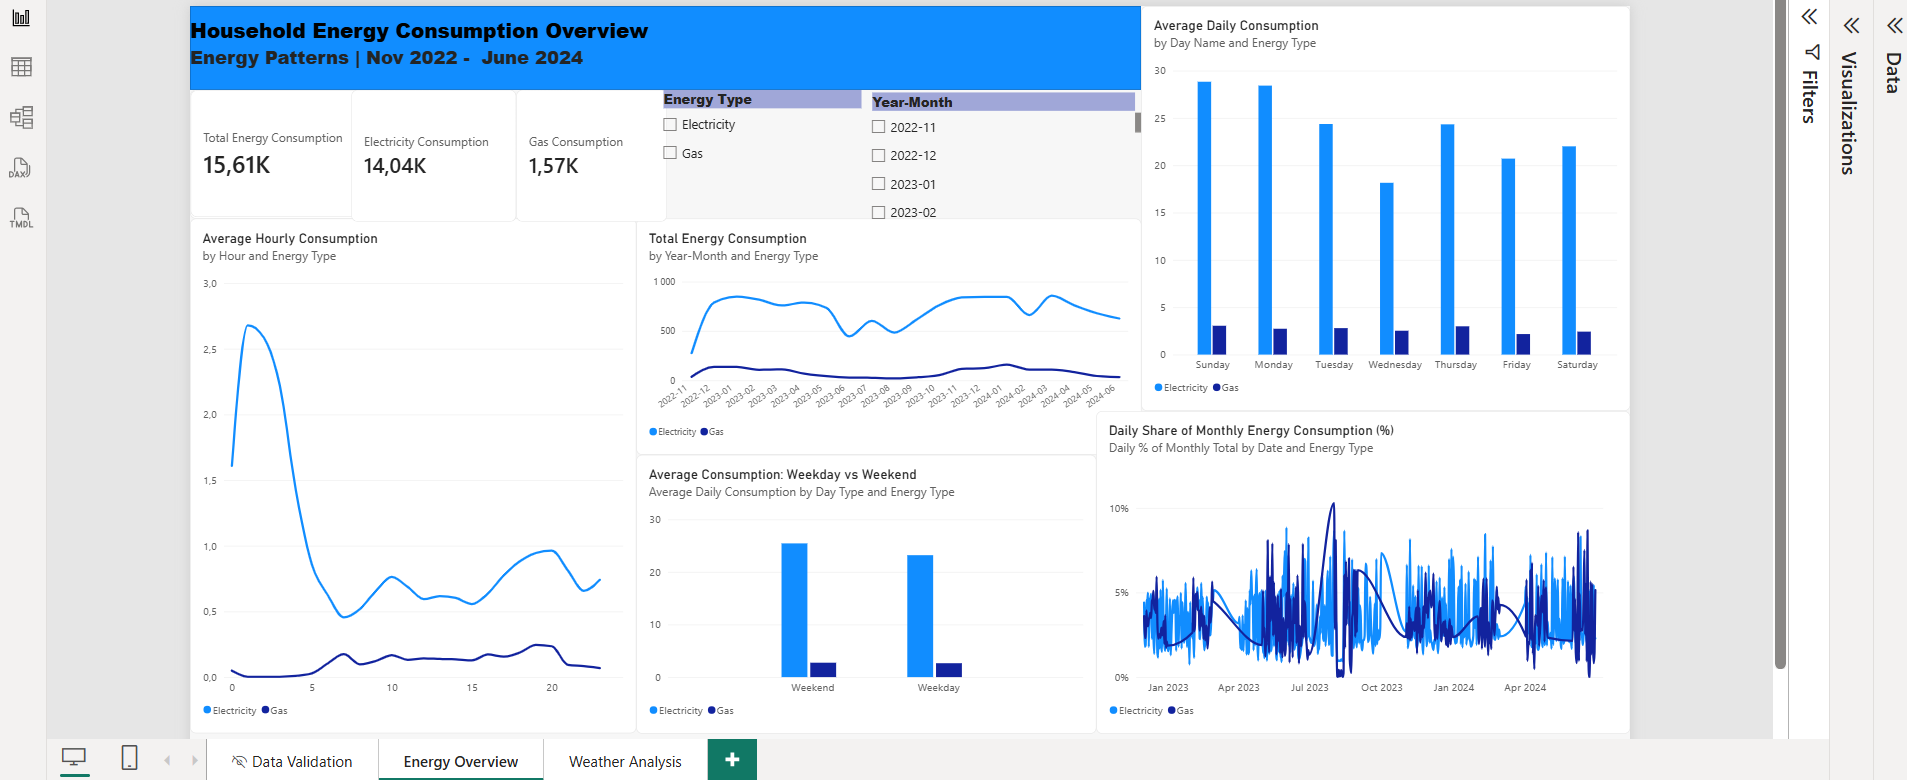

Layout of this report page (visuals, bound fields, positions):
{"tool":"powerbi","page":{"name":"Energy Overview","canvas":[1920,1080],"ordinal":1},"visuals":[{"type":"lineChart","fields":{"Category":["DimDate.Year-Month"],"Series":["DimEnergyType.Energy Type"],"Y":["FactEnergy.Total Energy Consumption"]},"box":[595,283.3,673.3,315],"z":0},{"type":"lineChart","fields":{"Category":["DimTime.Hour"],"Series":["DimEnergyType.Energy Type"],"Y":["FactEnergy.Average Hourly Consumption"]},"box":[0,283.3,595,661.7],"z":1000},{"type":"clusteredColumnChart","title":"Average Consumption: Weekday vs Weekend","fields":{"Category":["DimDate.Day Type"],"Series":["DimEnergyType.Energy Type"],"Y":["FactEnergy.Average Daily Consumption"]},"box":[595,598.3,613.3,345],"z":2000},{"type":"lineChart","title":"Daily Share of Monthly Energy Consumption (%)","fields":{"Category":["DimDate.Date"],"Series":["FactEnergy.Energy Type"],"Y":["FactEnergy.Daily % of Monthly Total"]},"box":[1208.3,540,711.7,430],"z":3000},{"type":"slicer","fields":{"Values":["DimDate.Year-Month"]},"box":[901.7,115,366.7,171.7],"z":4000},{"type":"cardVisual","fields":{"Data":["FactEnergy.Total Energy Consumption"]},"box":[0,111.7,230,171.7],"z":5000},{"type":"cardVisual","fields":{"Data":["FactEnergy.Electricity Consumption"]},"box":[215,111.7,220,176.7],"z":6000},{"type":"cardVisual","fields":{"Data":["FactEnergy.Gas Consumption"]},"box":[435,111.7,201.7,176.7],"z":7000},{"type":"slicer","fields":{"Values":["DimEnergyType.Energy Type"]},"box":[623.3,111.7,280,171.7],"z":8000},{"type":"clusteredColumnChart","fields":{"Category":["DimDate.Day Name"],"Series":["DimEnergyType.Energy Type"],"Y":["FactEnergy.Average Daily Consumption"]},"box":[1268.3,0,651.7,540],"z":9000},{"type":"shape","box":[0,0,1268.3,111.7],"z":10000},{"type":"textbox","box":[0,13.3,763.3,71.7],"z":11000}]}

Visuals, with their boxes on the page's 1920x1080 design canvas (x1, y1, x2, y2). These are canvas units, not pixel positions in the 1907x780 screenshot, which may show the page scaled, cropped or inside an application window:
lineChart - DimDate.Year-Month x DimEnergyType.Energy Type: (left=595, top=283, right=1268, bottom=598)
lineChart - DimTime.Hour x DimEnergyType.Energy Type: (left=0, top=283, right=595, bottom=945)
"Average Consumption: Weekday vs Weekend" clusteredColumnChart: (left=595, top=598, right=1208, bottom=943)
"Daily Share of Monthly Energy Consumption (%)" lineChart: (left=1208, top=540, right=1920, bottom=970)
slicer - DimDate.Year-Month: (left=902, top=115, right=1268, bottom=287)
cardVisual - FactEnergy.Total Energy Consumption: (left=0, top=112, right=230, bottom=283)
cardVisual - FactEnergy.Electricity Consumption: (left=215, top=112, right=435, bottom=288)
cardVisual - FactEnergy.Gas Consumption: (left=435, top=112, right=637, bottom=288)
slicer - DimEnergyType.Energy Type: (left=623, top=112, right=903, bottom=283)
clusteredColumnChart - DimDate.Day Name x DimEnergyType.Energy Type: (left=1268, top=0, right=1920, bottom=540)
shape: (left=0, top=0, right=1268, bottom=112)
textbox: (left=0, top=13, right=763, bottom=85)
